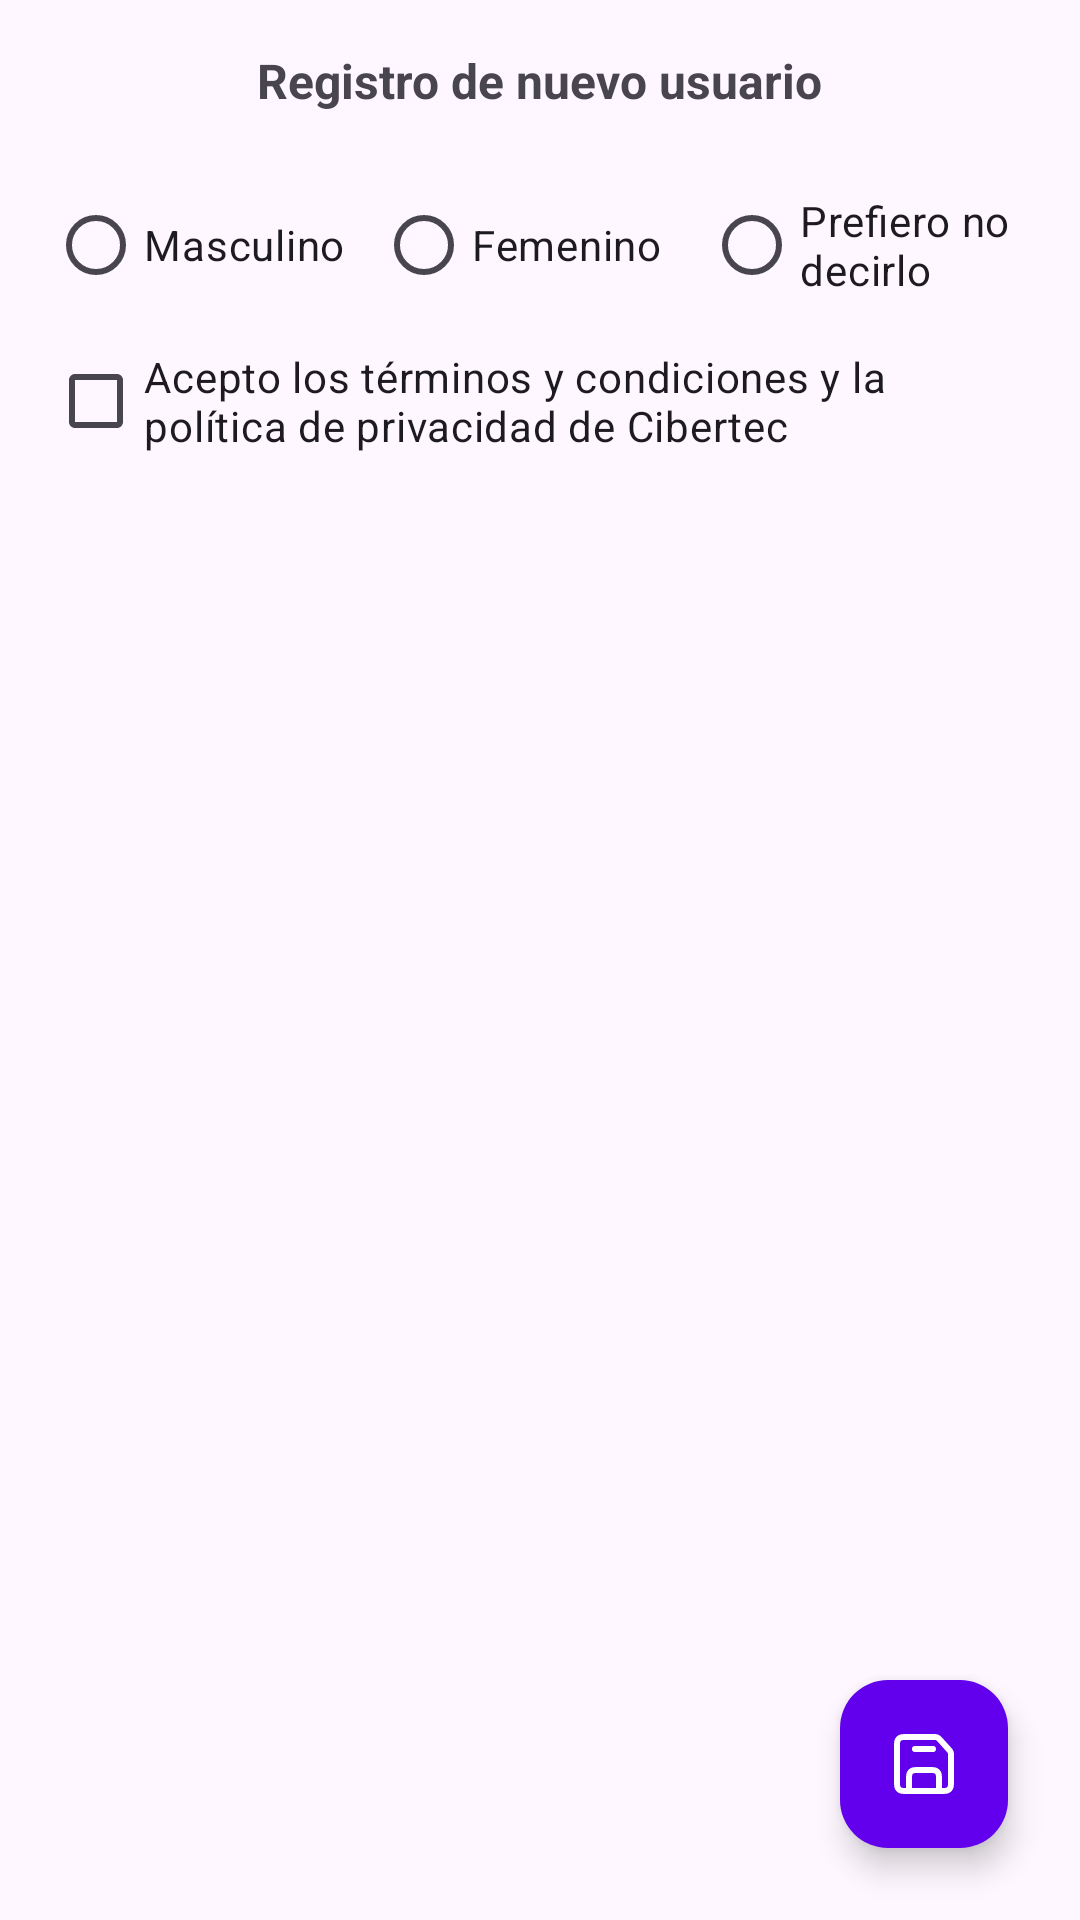

Locate icon controls on the screen. Image size 1080 x 1920, boxes as Rect(x1, y1, x2, y2).
guardar: Rect(840, 1680, 1008, 1848)
